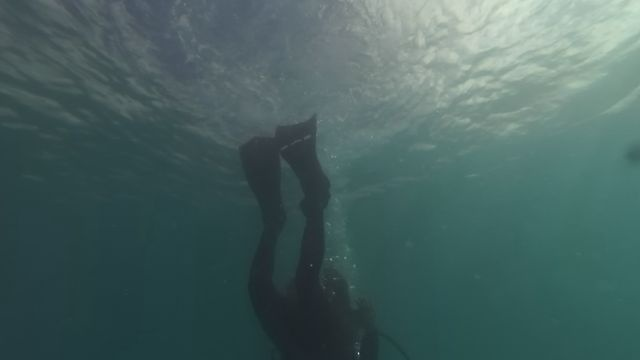Diver: (223, 117, 401, 357)
